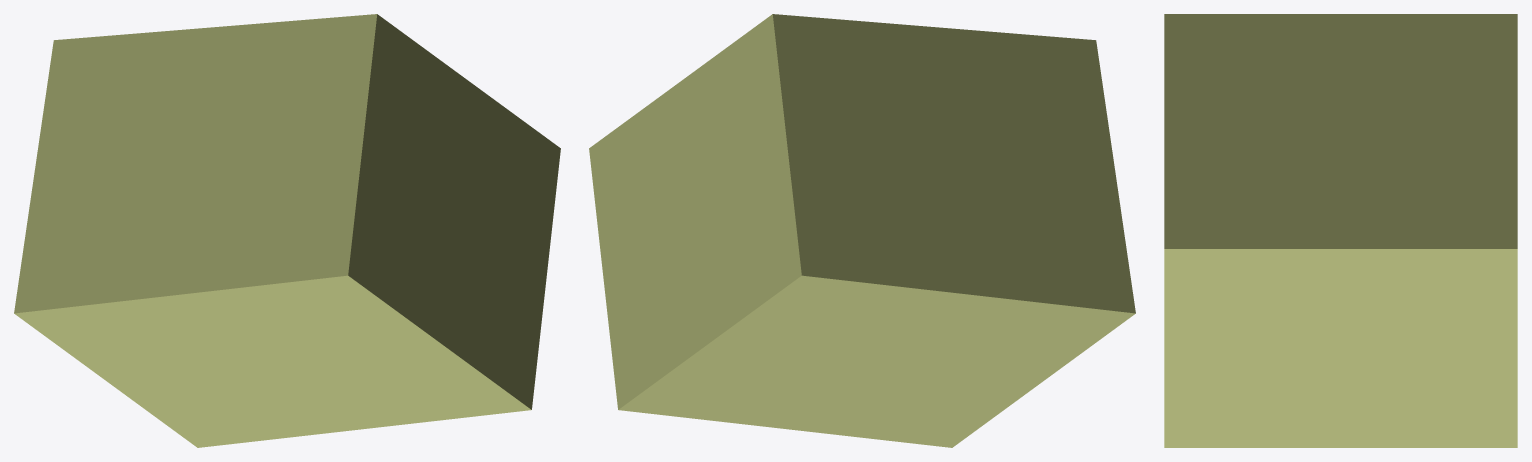
The picture shows the model from 3 angles, left to right: view 1: azimuth 30°, elevation 25°; view 2: azimuth 150°, elevation 25°; view 3: azimuth 270°, elevation 25°; orthographic projection. The views are drawn at different scales.
Visible parts, largest first — view 1: 0_0_1_2_0_0_0_2_1_2_2; view 2: 0_0_1_2_0_0_0_2_1_2_2; view 3: 0_0_1_2_0_0_0_2_1_2_2.
Boxes of the visible parts, left/top/right/bottom form: 0_0_1_2_0_0_0_2_1_2_2: left=14, top=14, right=560, bottom=447; 0_0_1_2_0_0_0_2_1_2_2: left=589, top=14, right=1135, bottom=447; 0_0_1_2_0_0_0_2_1_2_2: left=1164, top=14, right=1517, bottom=447.
Bounding box in the file's own units: 6.85 × 5.54 × 6.
